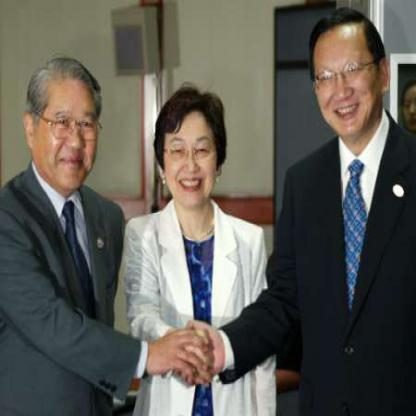face: (34, 65, 102, 195), (312, 16, 382, 141), (163, 97, 220, 211)
